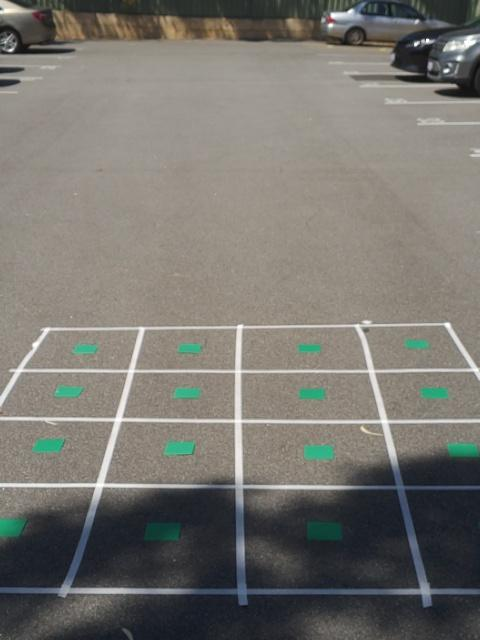weed: (142, 519, 182, 542), (306, 520, 344, 542), (0, 515, 29, 538), (162, 439, 197, 456), (29, 438, 66, 454), (447, 442, 480, 459), (303, 444, 335, 460), (53, 386, 85, 399), (173, 386, 202, 400), (297, 387, 326, 401), (420, 386, 448, 400), (296, 341, 323, 354), (72, 343, 100, 354), (177, 343, 202, 354), (404, 338, 429, 349)
